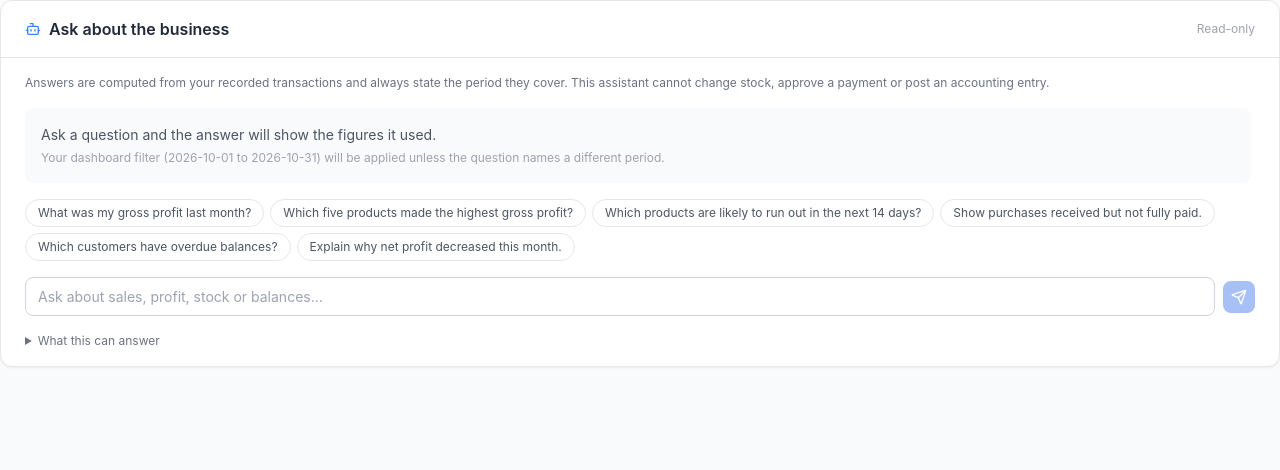
it: AssistantPanel › passes the dashboard filter to the backend rather than relying on the wording
This screenshot has width=1280, height=470.
In the field named "ask a question": (620, 296) [25, 277, 1215, 316], type "gross profit"
Then press Enter
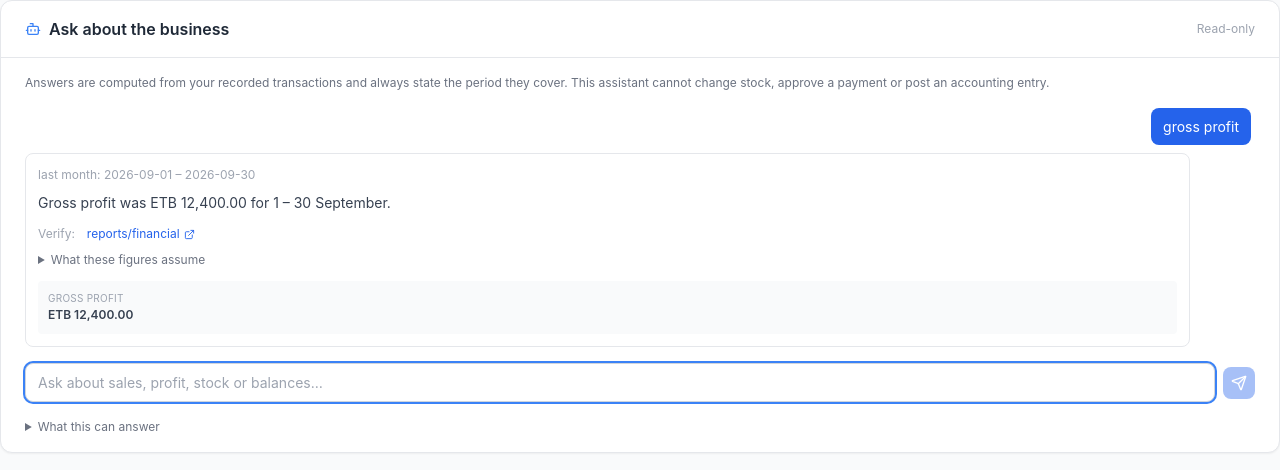
Result: the text "gross profit" is shown at [1151, 108, 1251, 145]
